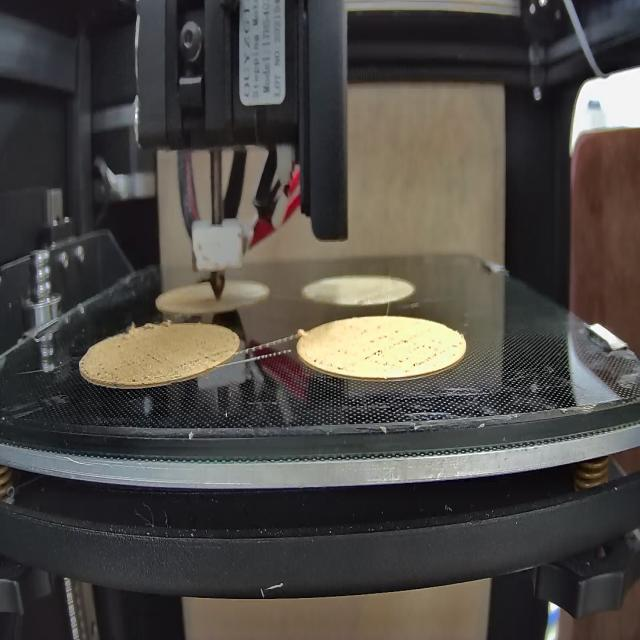under_extrusion: (362, 325, 445, 368), (95, 346, 163, 385), (176, 349, 223, 370), (311, 354, 344, 373)
